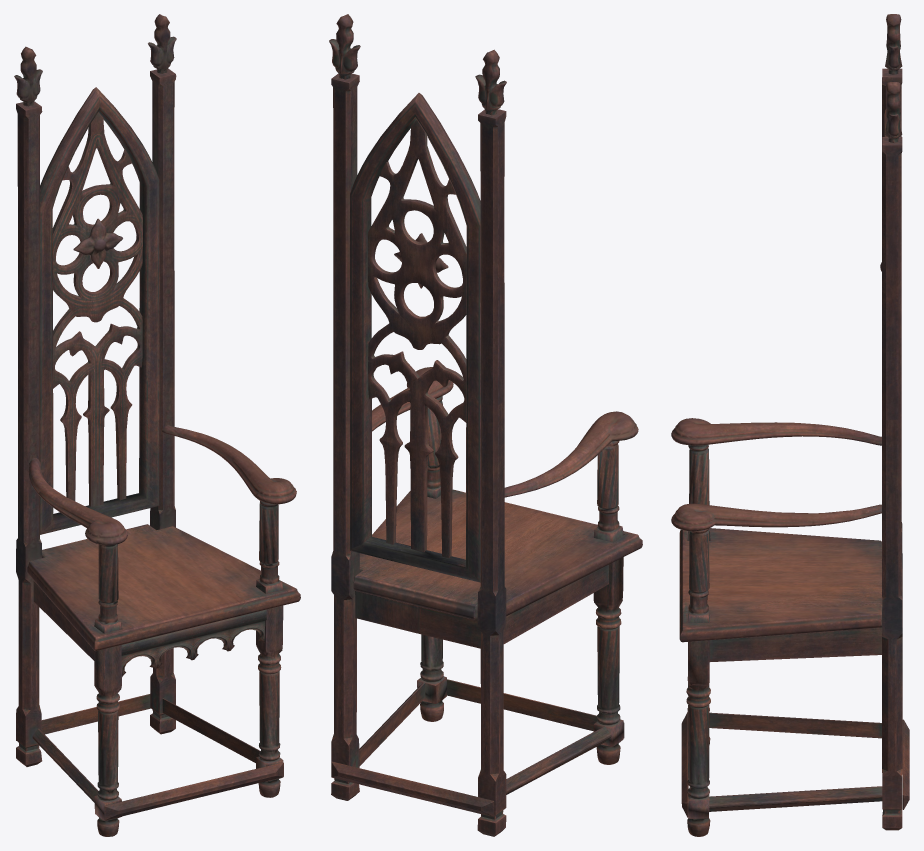
File: chair_wood.glb
The picture shows the model from 3 angles, left to right: view 1: azimuth 30°, elevation 25°; view 2: azimuth 150°, elevation 25°; view 3: azimuth 270°, elevation 25°; orthographic projection. The views are drawn at different scales.
Parts seen in each view (by area): view 1: WoodenChair_01; view 2: WoodenChair_01; view 3: WoodenChair_01.
Part boxes in pixels (<box>): WoodenChair_01: <box>14,14,300,836</box>; WoodenChair_01: <box>329,14,642,836</box>; WoodenChair_01: <box>671,14,909,836</box>.
Bounding box in the file's own units: 0.2785 × 0.92 × 0.2665.
Materials: 1 (1 with a texture image).
